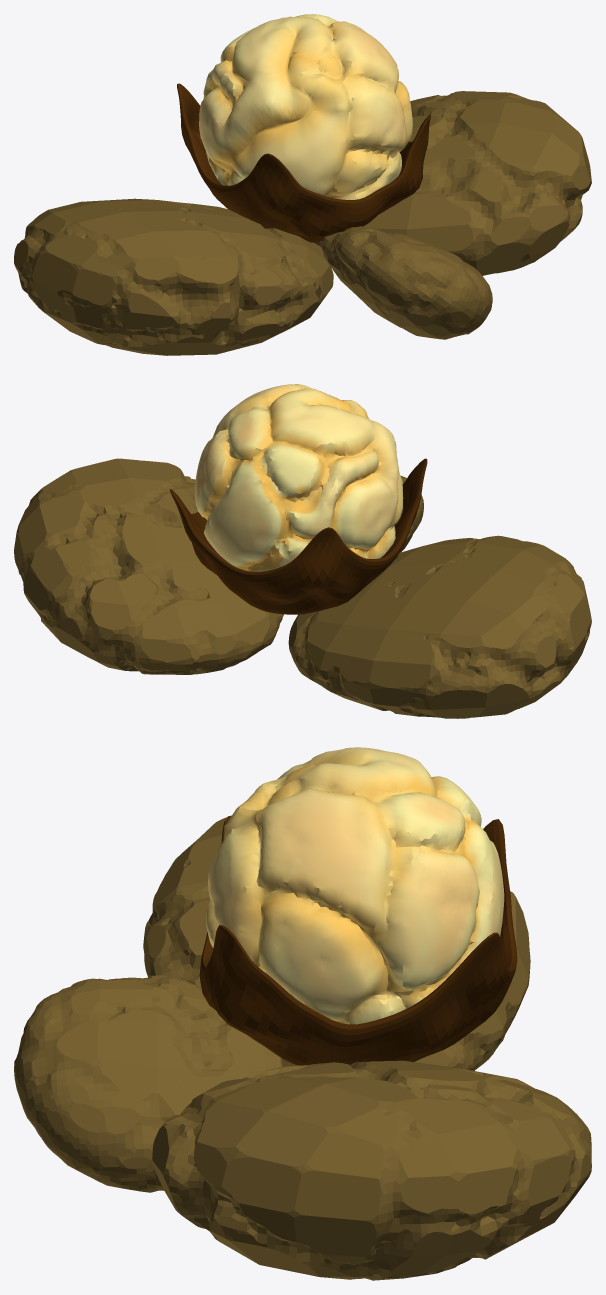
3 renders of one model, top to bottom at view 1: azimuth 30°, elevation 25°; view 2: azimuth 150°, elevation 25°; view 3: azimuth 270°, elevation 25°, orthographic. The views are drawn at different scales.
Visible parts, largest first — view 1: Plane, Cube.001_dmg_dmg; view 2: Plane, Cube.001_dmg_dmg; view 3: Plane, Cube.001_dmg_dmg.
Boxes of the visible parts, <box> form: Plane: <box>14,83,591,355</box>; Cube.001_dmg_dmg: <box>199,14,412,199</box>; Plane: <box>14,458,591,718</box>; Cube.001_dmg_dmg: <box>195,384,403,571</box>; Plane: <box>14,815,591,1280</box>; Cube.001_dmg_dmg: <box>206,747,504,1024</box>.
Bounding box in the file's own units: 203 × 97.77 × 131.
3 materials, 1 textured.
